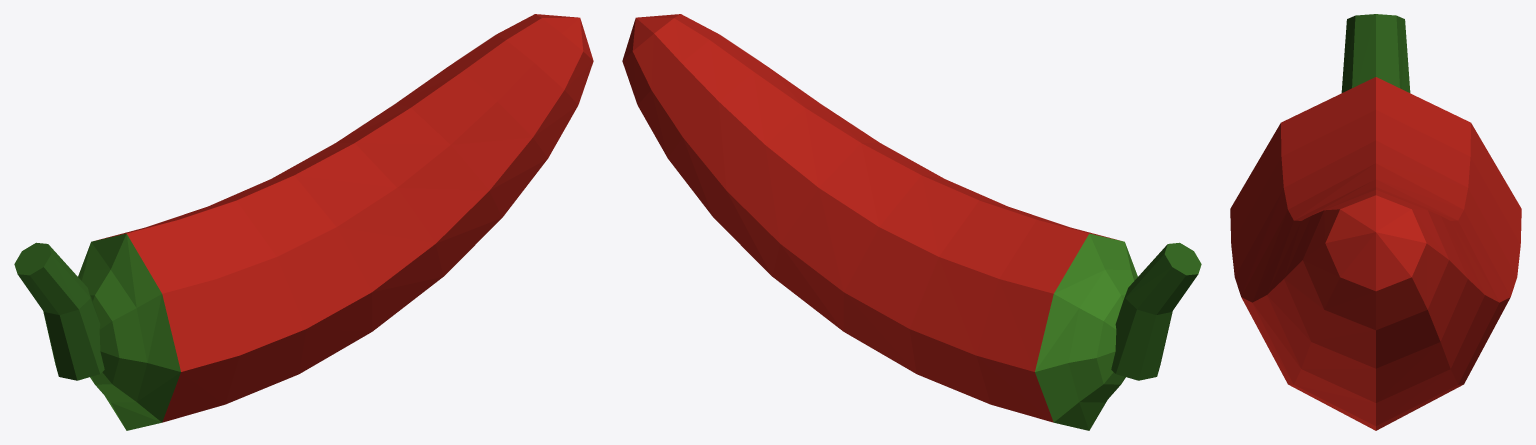
File: chili-pepper-3d7469.glb
3 views of the same model, side by side, from view 1: azimuth 30°, elevation 25°; view 2: azimuth 150°, elevation 25°; view 3: azimuth 270°, elevation 25° (orthographic). The views are drawn at different scales.
Parts seen in each view (by area): view 1: chili-pepper; view 2: chili-pepper; view 3: chili-pepper.
Part boxes in pixels (x1,y1,x2,y2): chili-pepper: [14, 14, 593, 430]; chili-pepper: [622, 14, 1201, 430]; chili-pepper: [1230, 14, 1521, 430].
Size of the model in its own units: 0.1695 by 0.0886 by 0.0562.
